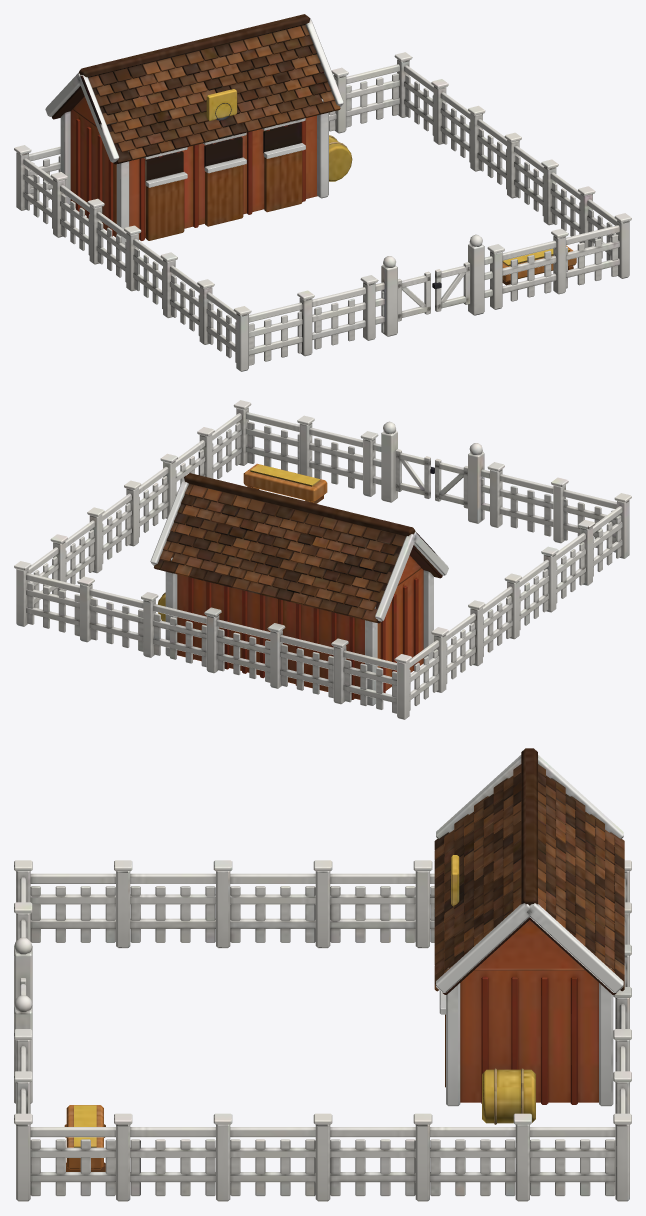
The model's file is appaloosa_stable.glb.
3 renders of one model, top to bottom at view 1: azimuth 30°, elevation 25°; view 2: azimuth 150°, elevation 25°; view 3: azimuth 270°, elevation 25°, orthographic. The views are drawn at different scales.
Visible parts, largest first — view 1: appaloosa_stable, gate1, gate0; view 2: appaloosa_stable, gate1, gate0; view 3: appaloosa_stable.
Boxes of the visible parts, x1,y1,x2,y2 form: appaloosa_stable: (14,14,631,371); gate1: (432,262,470,311); gate0: (398,271,430,321); appaloosa_stable: (14,400,631,719); gate1: (395,449,434,498); gate0: (435,458,467,508); appaloosa_stable: (14,748,631,1201).
Bounding box in the file's own units: 2.99 × 1.16 × 2.99.
Materials: 1 (1 with a texture image).
